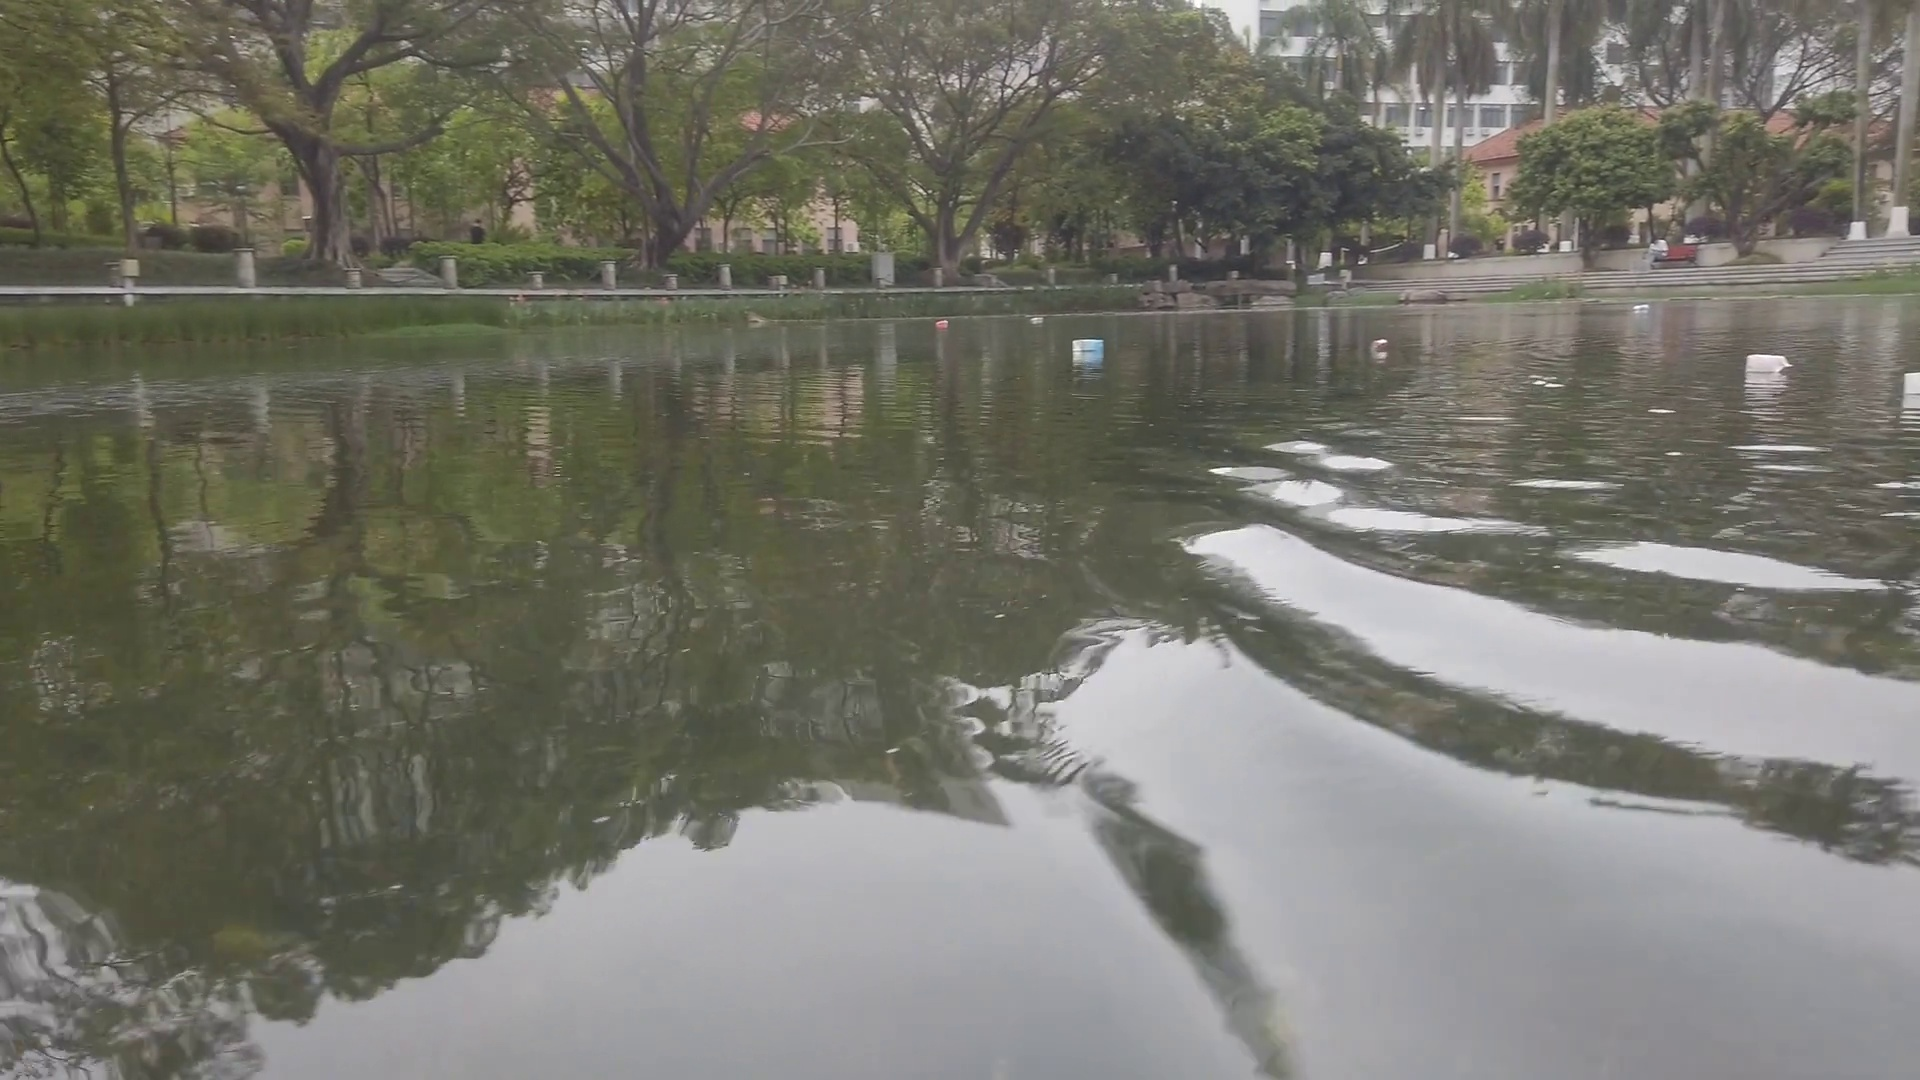bottle: (1371, 339, 1390, 349), (934, 319, 948, 327), (1030, 316, 1044, 323), (1634, 305, 1650, 310)
carton: (1745, 353, 1793, 372), (1069, 338, 1105, 353)
